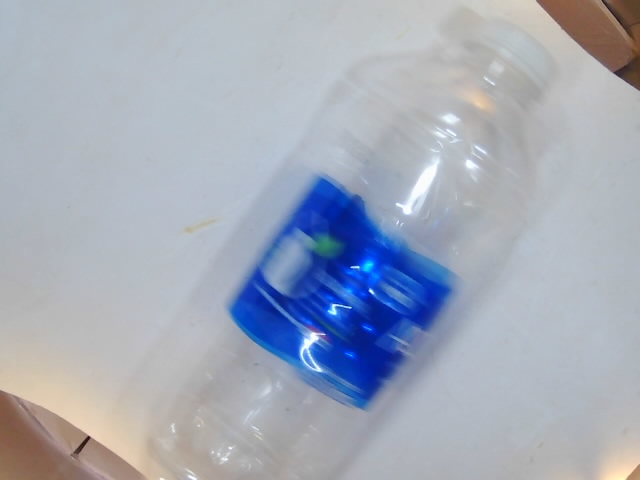plastic: (130, 40, 559, 480)
